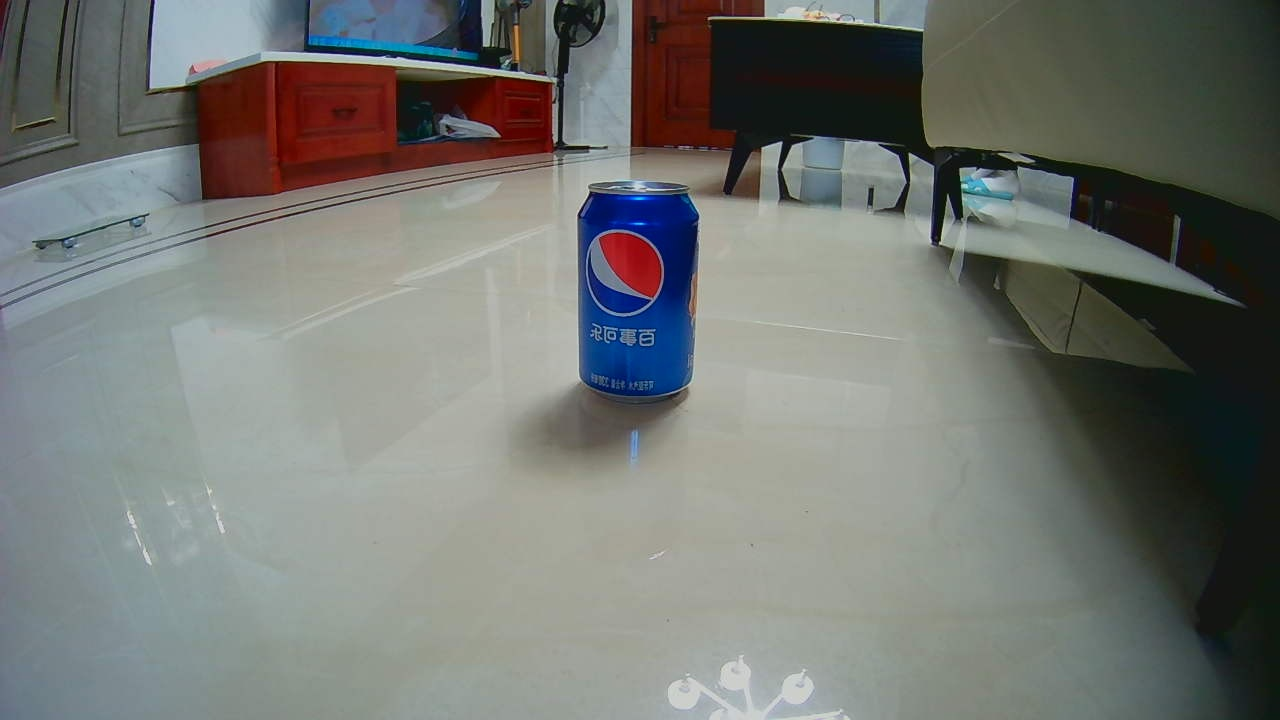pessi: (584, 178, 693, 392)
